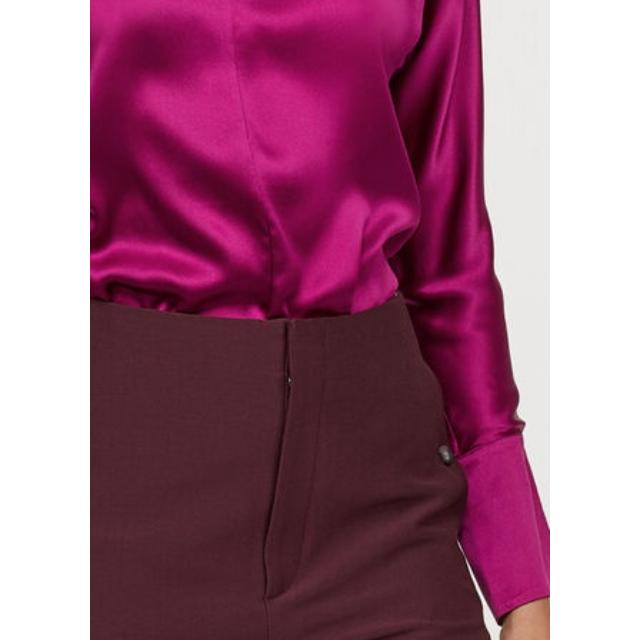silk: (90, 0, 508, 312)
